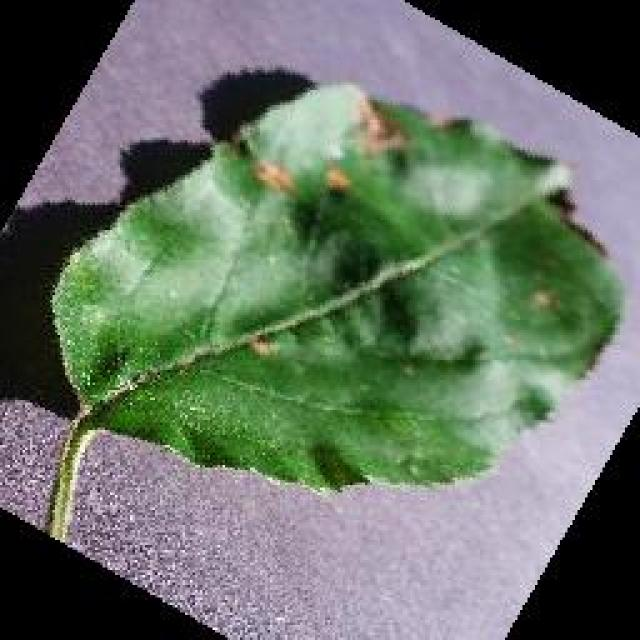Black_rot: (43, 75, 625, 543)
